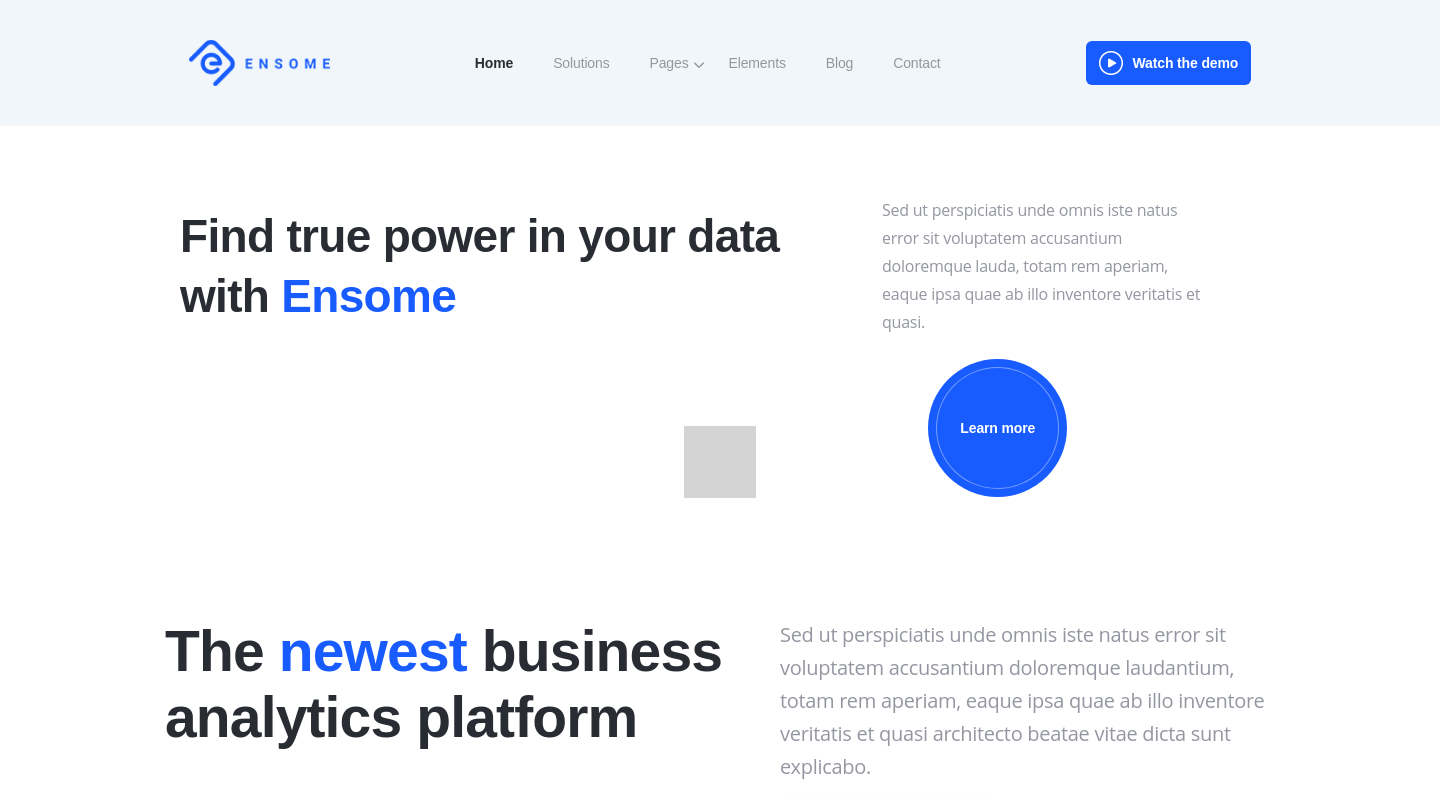
Scenario: Home page functional › open modal window
This screenshot has width=1440, height=800.
Click the element with test id "watchVideo": (1169, 63) [1086,41,1252,85]
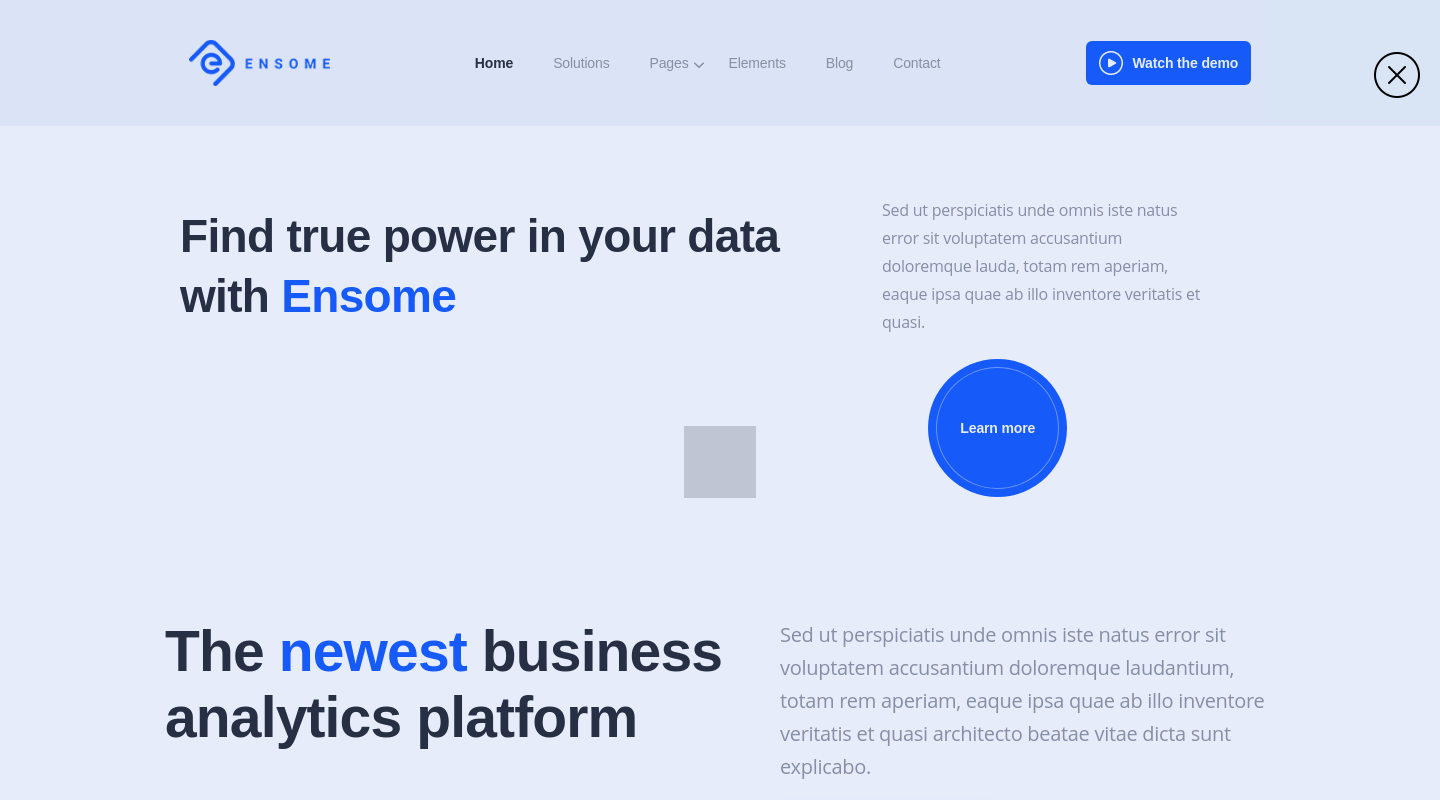
Check: the element with test id "modal" is shown
Click the element with test id "modal": (720, 400) [0,0,1439,799]
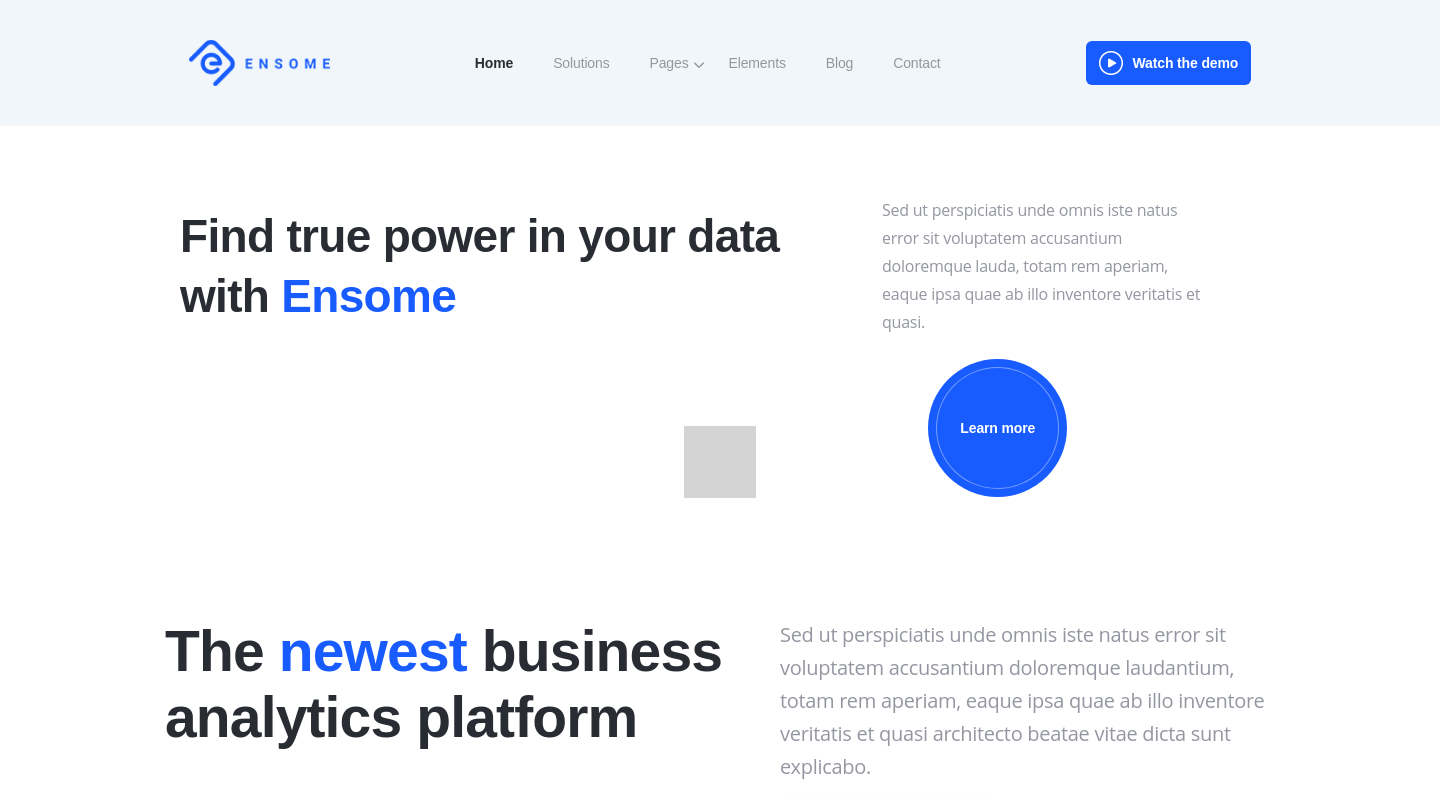
Check: the element with test id "modal" is gone
